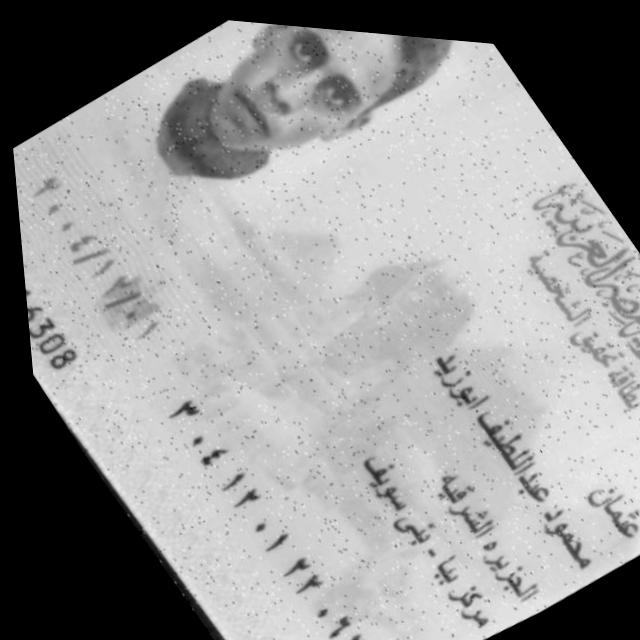front: (13, 20, 640, 640)
